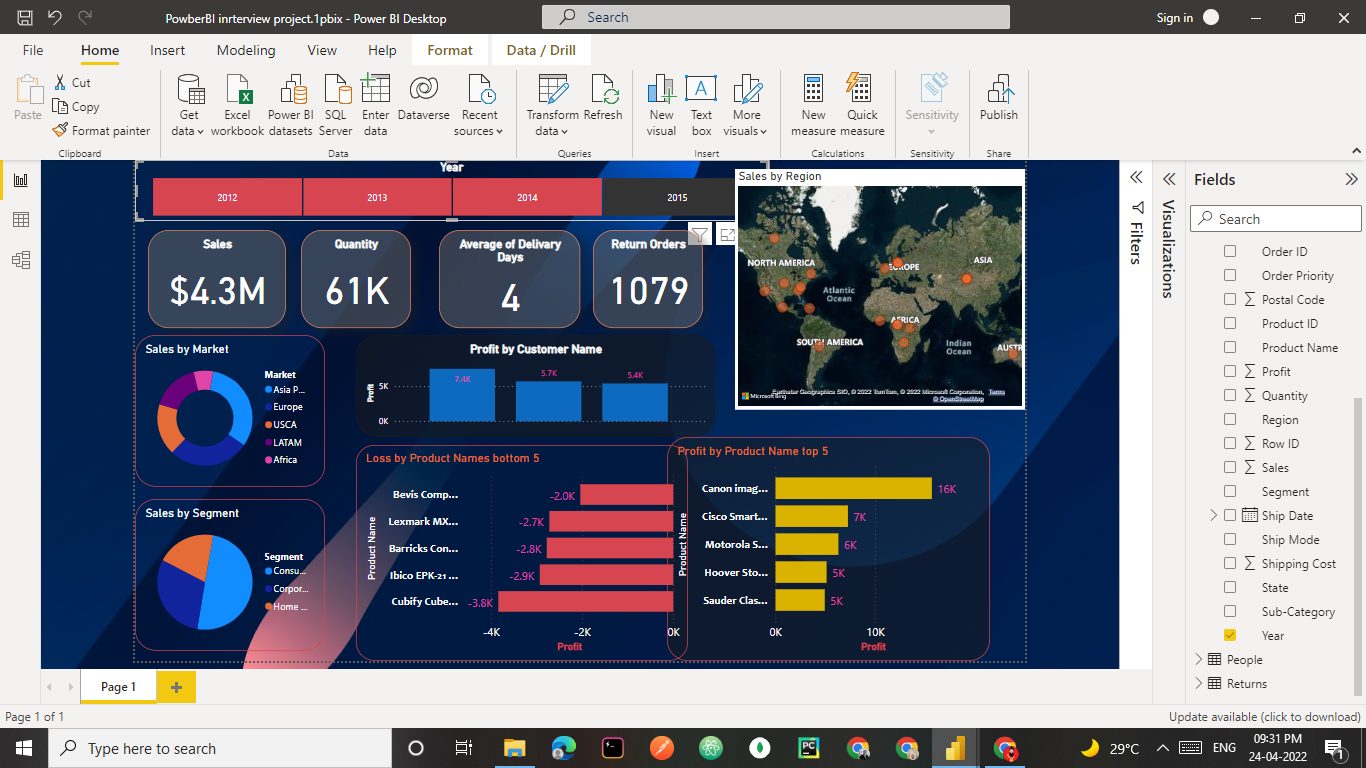

The page's visual inventory and layout, read from the dashboard file:
{"tool":"powerbi","page":{"name":"Page 1","canvas":[1280,720],"ordinal":0},"visuals":[{"type":"card","title":"Sales","fields":{"Values":["Sum(Orders.Sales)"]},"box":[18.5,100.8,198.2,141.1],"z":0},{"type":"card","title":"Quantity","fields":{"Values":["Sum(Orders.Quantity)"]},"box":[238.5,100.8,157.9,141.1],"z":1000},{"type":"card","title":"Average of Delivary Days","fields":{"Values":["Avg(Orders.Delivary Days)"]},"box":[436.7,100.8,203.3,141.1],"z":2000},{"type":"slicer","title":"Year","fields":{"Values":["Orders.Year"]},"box":[0,0,862.3,87.7],"z":3000},{"type":"card","title":"Return Orders","fields":{"Values":["Sum(Returns.Return Orders)"]},"box":[658.5,100.8,157.9,141.1],"z":4000},{"type":"map","fields":{"Size":["Sum(Orders.Sales)"],"Category":["Returns.Region"]},"box":[861.7,13.4,418.3,346],"z":5000},{"type":"clusteredBarChart","title":"Profit by Product Name top 5","fields":{"Category":["Orders.Product Name"],"Y":["Sum(Orders.Profit)"]},"box":[764.6,398.1,464.2,321.9],"z":6000},{"type":"clusteredBarChart","title":"Loss by Product Names bottom 5","fields":{"Category":["Orders.Product Name"],"Y":["Sum(Orders.Profit)"]},"box":[317.6,409.6,477.1,310.4],"z":7000},{"type":"pieChart","fields":{"Category":["Orders.Segment"],"Y":["Sum(Orders.Sales)"]},"box":[0,487.2,273.1,218.4],"z":8000},{"type":"donutChart","fields":{"Category":["Orders.Market"],"Y":["Sum(Orders.Sales)"]},"box":[0,251.5,273.1,218.4],"z":9000},{"type":"columnChart","fields":{"Category":["Orders.Customer Name"],"Y":["Sum(Orders.Profit)"]},"box":[317.5,252,515.7,146.1],"z":10000}]}

Visuals, with their boxes on the page's 1280x720 design canvas (x1, y1, x2, y2). These are canvas units, not pixel positions in the 1366x768 screenshot, which may show the page scaled, cropped or inside an application window:
"Sales" card: [18, 101, 217, 242]
"Quantity" card: [238, 101, 396, 242]
"Average of Delivary Days" card: [437, 101, 640, 242]
"Year" slicer: [0, 0, 862, 88]
"Return Orders" card: [658, 101, 816, 242]
map - Sum(Orders.Sales) x Returns.Region: [862, 13, 1280, 359]
"Profit by Product Name top 5" clusteredBarChart: [765, 398, 1229, 720]
"Loss by Product Names bottom 5" clusteredBarChart: [318, 410, 795, 720]
pieChart - Orders.Segment x Sum(Orders.Sales): [0, 487, 273, 706]
donutChart - Orders.Market x Sum(Orders.Sales): [0, 252, 273, 470]
columnChart - Orders.Customer Name x Sum(Orders.Profit): [318, 252, 833, 398]
